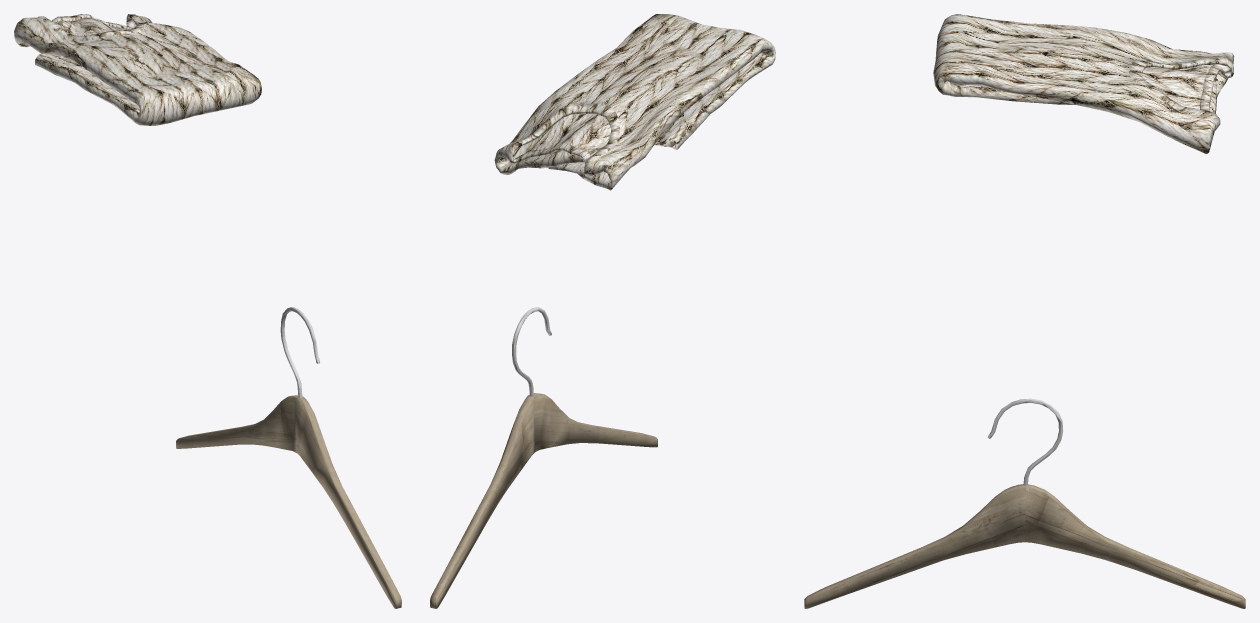
The model's file is rod-blouse_knitted3.glb.
3 views of the same model, side by side, from view 1: azimuth 30°, elevation 25°; view 2: azimuth 150°, elevation 25°; view 3: azimuth 270°, elevation 25° (orthographic).
Visible parts, largest first — view 1: blouse_knitted3.001, Hangers_for_clothes084.001; view 2: blouse_knitted3.001, Hangers_for_clothes084.001; view 3: blouse_knitted3.001, Hangers_for_clothes084.001.
Part boxes in pixels (x1,y1,x2,y2): blouse_knitted3.001: [14, 14, 261, 125]; Hangers_for_clothes084.001: [176, 307, 401, 608]; blouse_knitted3.001: [494, 14, 775, 190]; Hangers_for_clothes084.001: [430, 307, 657, 608]; blouse_knitted3.001: [933, 14, 1234, 153]; Hangers_for_clothes084.001: [804, 398, 1245, 608].
Size of the model in its own units: 0.2394 by 0.5517 by 0.4372.
Materials: 3 (2 with a texture image).
